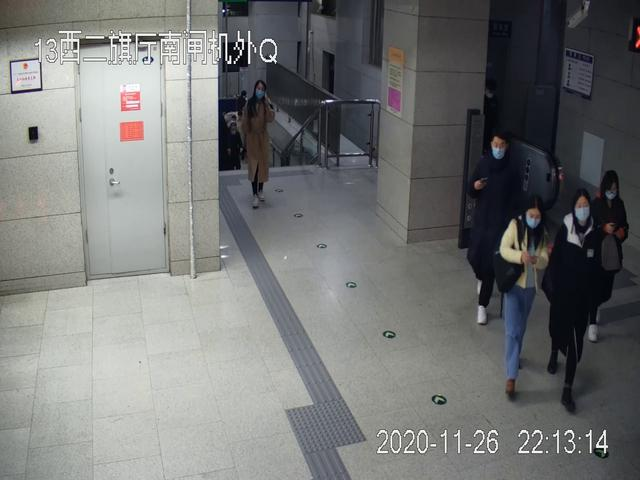person: (542, 189, 602, 414), (499, 199, 549, 401), (468, 130, 515, 325), (589, 170, 630, 342), (239, 80, 276, 208)
